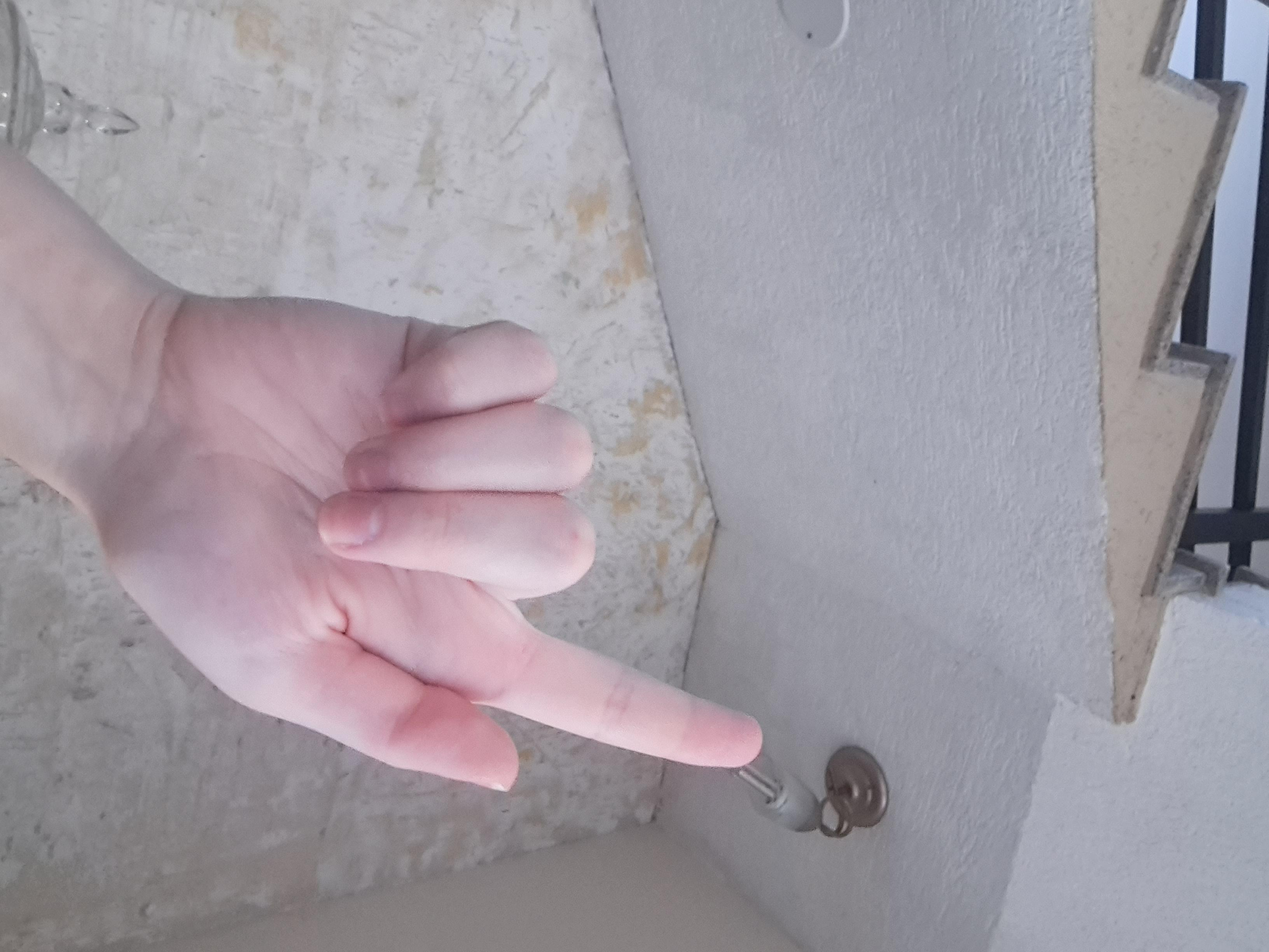G: (342, 373, 1073, 884)
